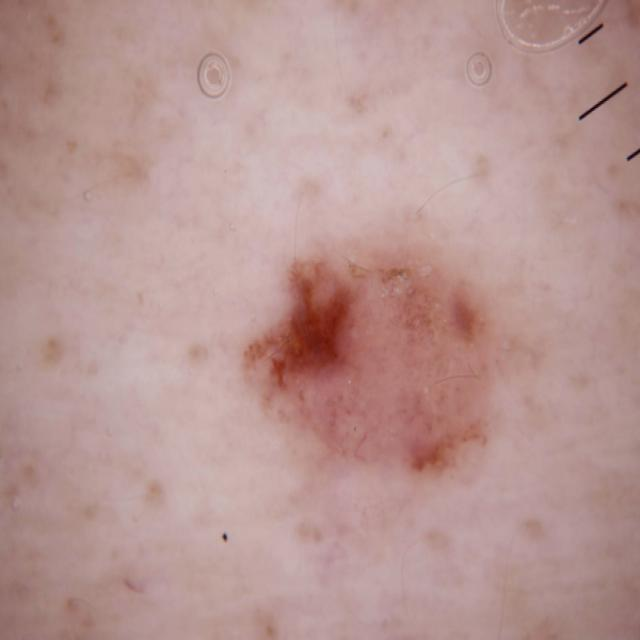NV: (237, 230, 542, 496)
